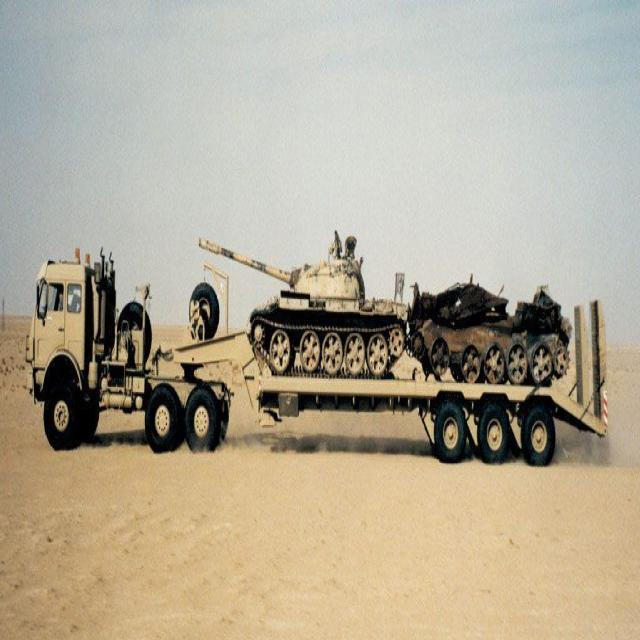Tanks: (229, 236, 390, 371)
